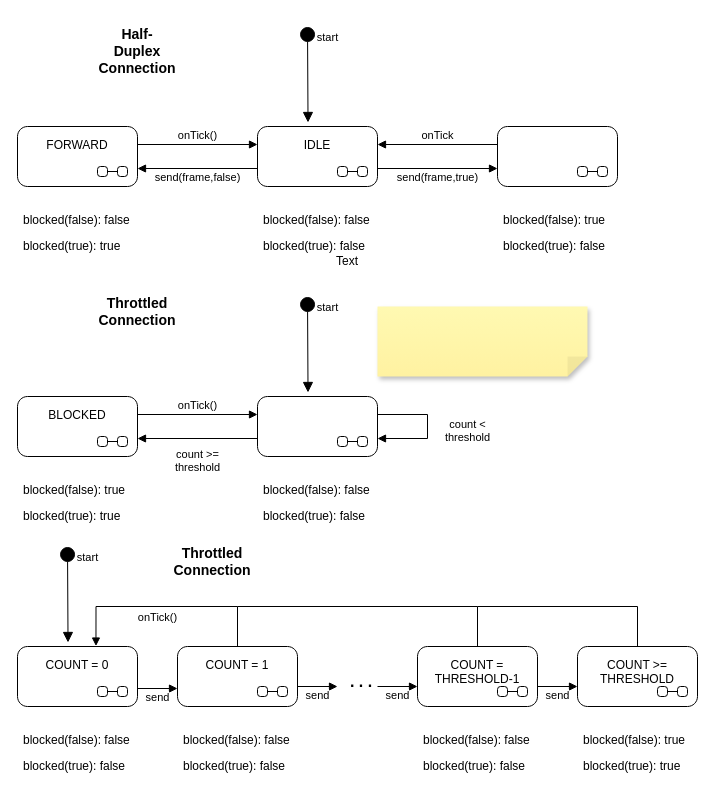
Image size: 715x799. Some labels were removed from this diagram. Here are the shapes that lost their labels. From the top down, the centre of each, then its label:
At [557,156]: "REVERSED".
At [483,342]: "send(frame,reversed) { ++count; receive(frame,reversed); }".
At [317,426]: "UNBLOCKED".
